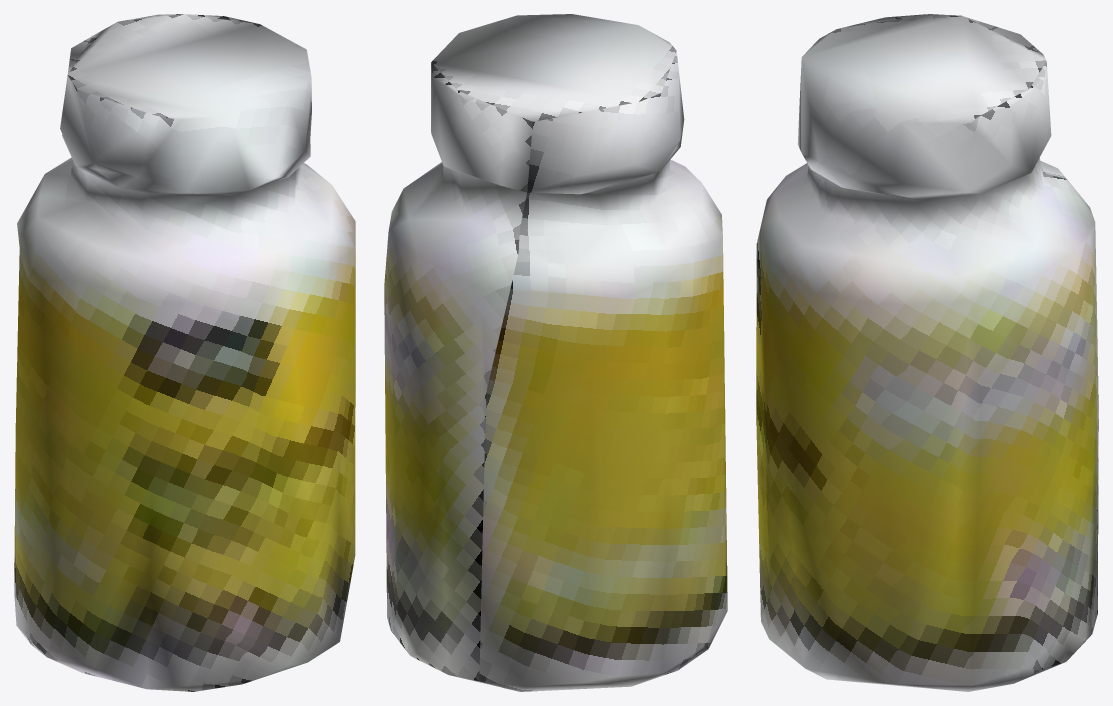
The model's file is Hyaluronic_Acid-low.glb.
3 renders of one model, left to right at view 1: azimuth 30°, elevation 25°; view 2: azimuth 150°, elevation 25°; view 3: azimuth 270°, elevation 25°, orthographic.
Parts seen in each view (by area): view 1: Hyaluronic_Acid; view 2: Hyaluronic_Acid; view 3: Hyaluronic_Acid.
Part boxes in pixels (x1=…): Hyaluronic_Acid: x1=14, y1=14, x2=355, y2=691; Hyaluronic_Acid: x1=384, y1=14, x2=727, y2=691; Hyaluronic_Acid: x1=756, y1=14, x2=1098, y2=691.
Bounding box in the file's own units: 0.0536 × 0.0976 × 0.0533.
Materials: 1 (1 with a texture image).
